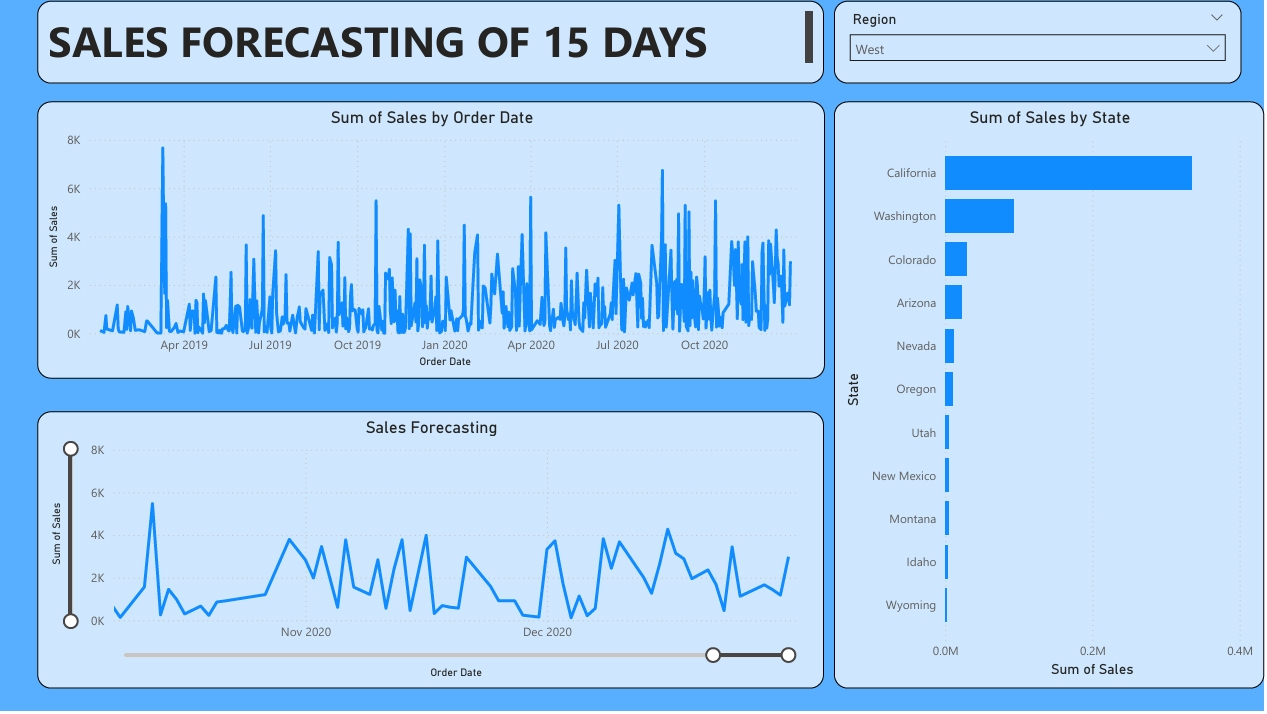

Layout of this report page (visuals, bound fields, positions):
{"tool":"powerbi","page":{"name":"Page 2","canvas":[1280,720],"ordinal":1},"visuals":[{"type":"lineChart","fields":{"Y":["Sum(SuperStore_Sales_Dataset.Sales)"],"Category":["SuperStore_Sales_Dataset.Order Date"]},"box":[37.2,102.3,797.7,280.2],"z":0},{"type":"lineChart","title":"Sales Forecasting","fields":{"Y":["Sum(SuperStore_Sales_Dataset.Sales)"],"Category":["SuperStore_Sales_Dataset.Order Date"]},"box":[37.2,416.3,796.5,280.2],"z":1000},{"type":"clusteredBarChart","fields":{"Category":["SuperStore_Sales_Dataset.State"],"Y":["Sum(SuperStore_Sales_Dataset.Sales)"]},"box":[844.2,102.3,436,594.2],"z":2000},{"type":"textbox","box":[37.2,0,796.5,83.7],"z":3000},{"type":"slicer","fields":{"Values":["SuperStore_Sales_Dataset.Region"]},"box":[844.2,0,412.8,83.7],"z":3001}]}

Visuals, with their boxes in screenshot pixels (x1, y1, x2, y2), scaled from the page's 1280x720 canvas onto the 1267x714 screenshot:
lineChart - Sum(SuperStore_Sales_Dataset.Sales) x SuperStore_Sales_Dataset.Order Date: 37:101:826:379
"Sales Forecasting" lineChart: 37:413:825:691
clusteredBarChart - SuperStore_Sales_Dataset.State x Sum(SuperStore_Sales_Dataset.Sales): 836:101:1266:691
textbox: 37:0:825:83
slicer - SuperStore_Sales_Dataset.Region: 836:0:1244:83
